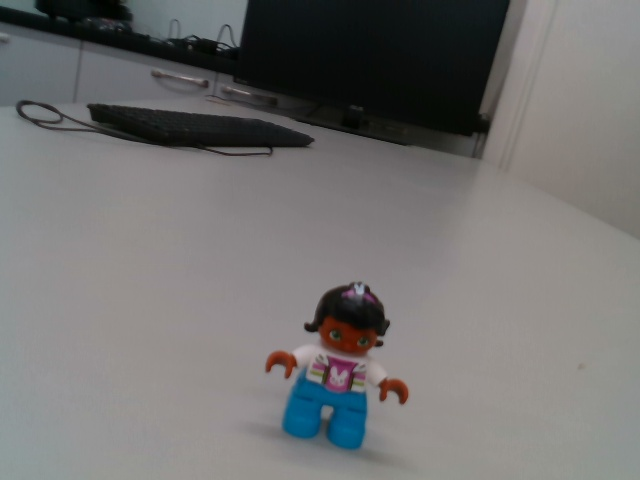people: (261, 278, 412, 452)
